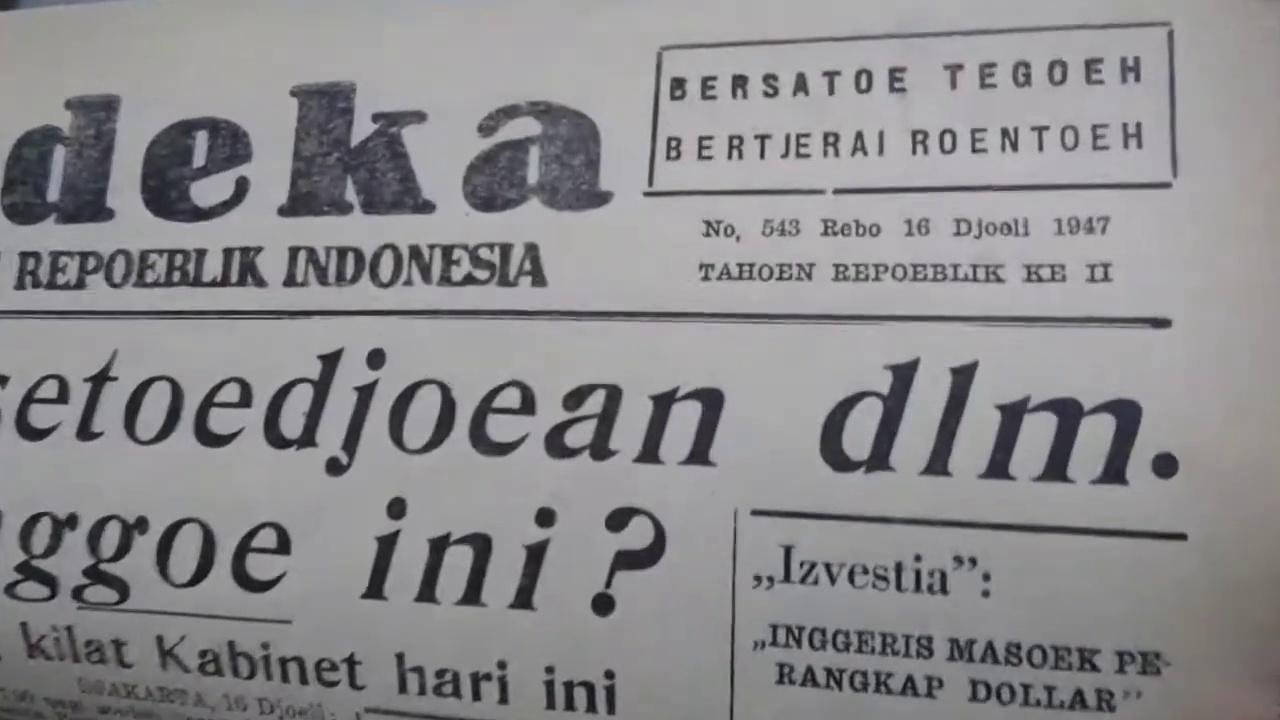Kertas: (0, 0, 1262, 716)
